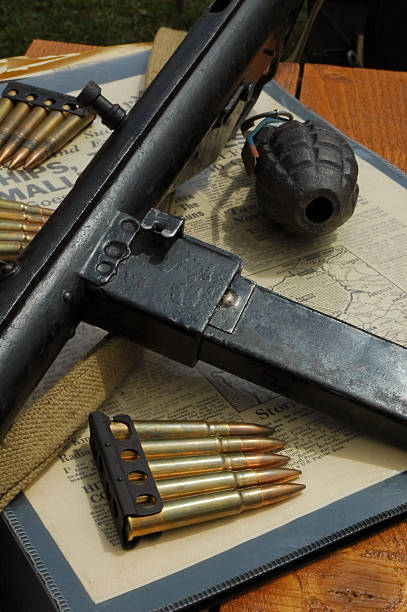e1: (236, 105, 358, 233)
